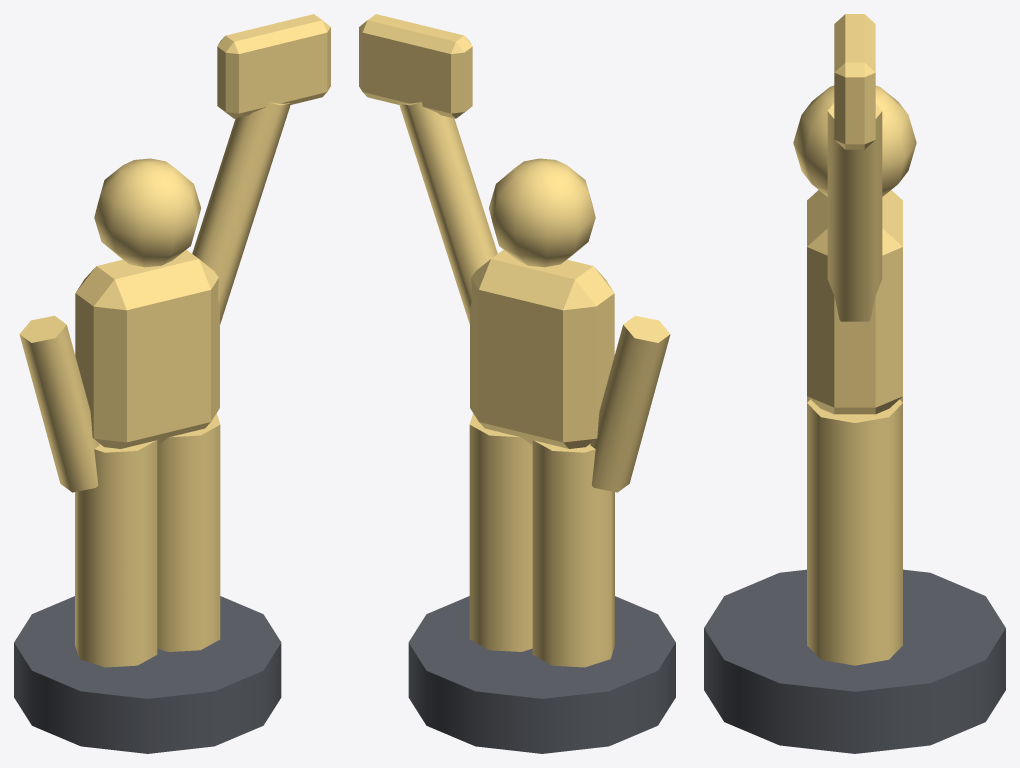
Rendered from item_statuette.glb.
3 renders of one model, left to right at view 1: azimuth 30°, elevation 25°; view 2: azimuth 150°, elevation 25°; view 3: azimuth 270°, elevation 25°, orthographic. The views are drawn at different scales.
Visible parts, largest first — view 1: statuette; view 2: statuette; view 3: statuette.
Part boxes in pixels (x1,y1,x2,y2): statuette: (14, 14, 330, 753); statuette: (359, 14, 675, 753); statuette: (704, 14, 1005, 753).
Bounding box in the file's own units: 0.2861 × 0.58 × 0.22.
